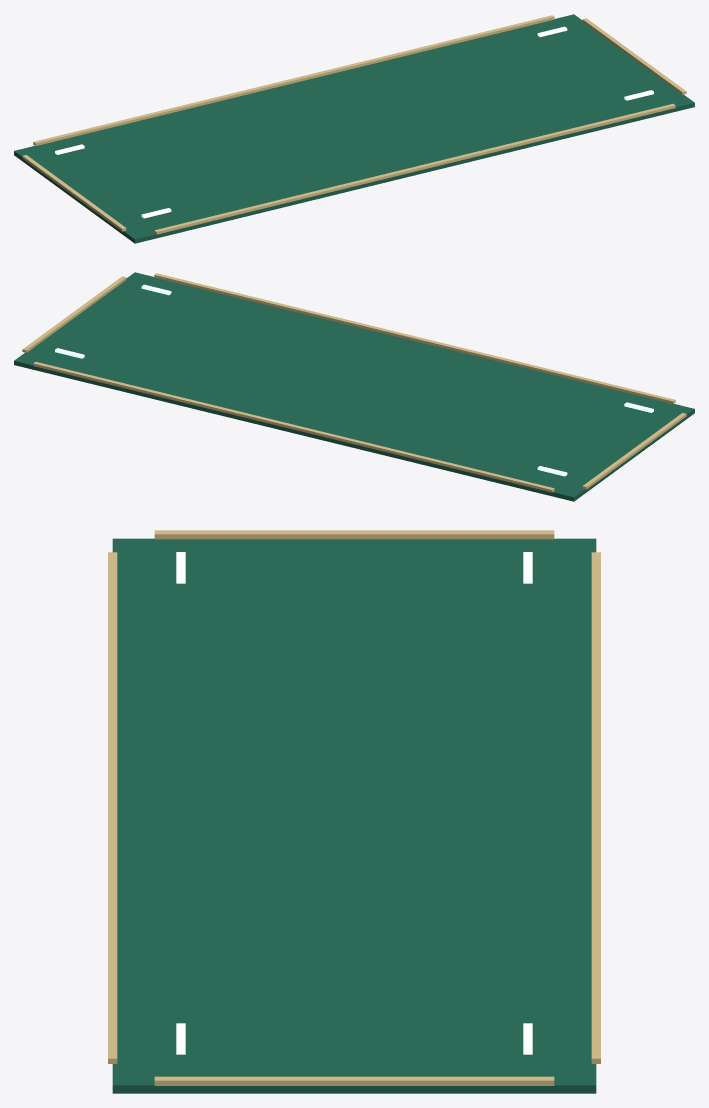
Rendered from looplings_desk_mat.glb.
3 views of the same model, one above another, from view 1: azimuth 30°, elevation 25°; view 2: azimuth 150°, elevation 25°; view 3: azimuth 270°, elevation 25° (orthographic). The views are drawn at different scales.
Parts seen in each view (by area): view 1: LooplingsDeskMat_Cloth, LooplingsDeskMat_FrontStitch, LooplingsDeskMat_BackStitch, LooplingsDeskMat_LeftStitch, LooplingsDeskMat_RightStitch; view 2: LooplingsDeskMat_Cloth, LooplingsDeskMat_FrontStitch, LooplingsDeskMat_BackStitch, LooplingsDeskMat_LeftStitch, LooplingsDeskMat_RightStitch; view 3: LooplingsDeskMat_Cloth, LooplingsDeskMat_FrontStitch, LooplingsDeskMat_BackStitch, LooplingsDeskMat_LeftStitch, LooplingsDeskMat_RightStitch.
Boxes of the visible parts, bbox=[...] form: LooplingsDeskMat_Cloth: bbox=[14, 14, 694, 243]; LooplingsDeskMat_FrontStitch: bbox=[154, 103, 675, 234]; LooplingsDeskMat_BackStitch: bbox=[33, 15, 554, 145]; LooplingsDeskMat_LeftStitch: bbox=[22, 155, 126, 231]; LooplingsDeskMat_RightStitch: bbox=[582, 18, 686, 94]; LooplingsDeskMat_Cloth: bbox=[14, 272, 694, 501]; LooplingsDeskMat_FrontStitch: bbox=[154, 273, 675, 403]; LooplingsDeskMat_BackStitch: bbox=[33, 361, 554, 492]; LooplingsDeskMat_LeftStitch: bbox=[582, 413, 686, 489]; LooplingsDeskMat_RightStitch: bbox=[22, 276, 126, 352]; LooplingsDeskMat_Cloth: bbox=[112, 538, 596, 1093]; LooplingsDeskMat_FrontStitch: bbox=[108, 552, 117, 1063]; LooplingsDeskMat_BackStitch: bbox=[591, 552, 600, 1063]; LooplingsDeskMat_LeftStitch: bbox=[154, 530, 554, 539]; LooplingsDeskMat_RightStitch: bbox=[154, 1076, 554, 1085].
Size of the model in its own units: 2.48 by 0.041 by 0.938.
